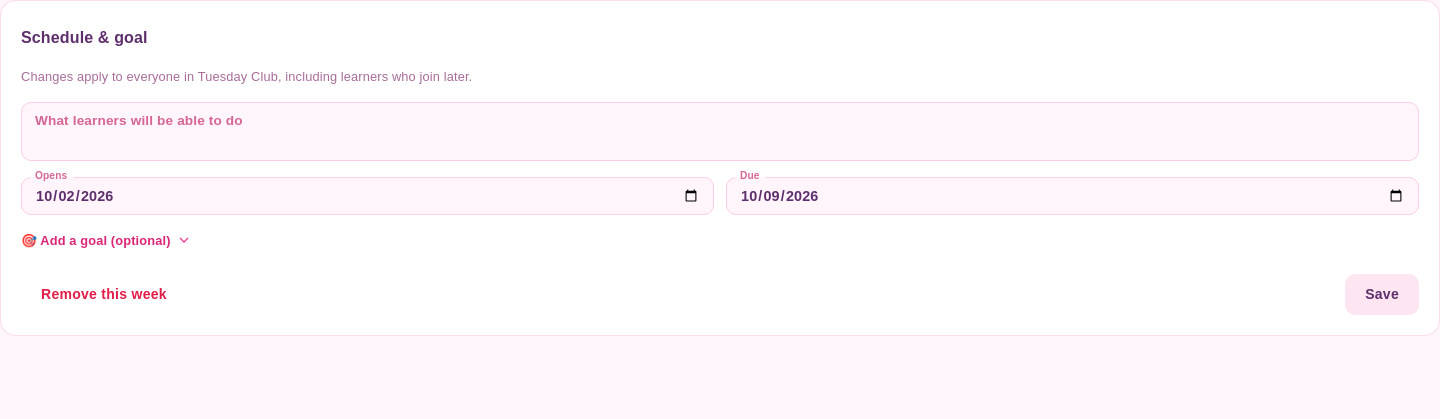
HandoutSettings › shows an error when saving fails
Type "x" into the text box labelled "What learners will be able to do" at {"x": 720, "y": 132}, box [35,111,1405,153]
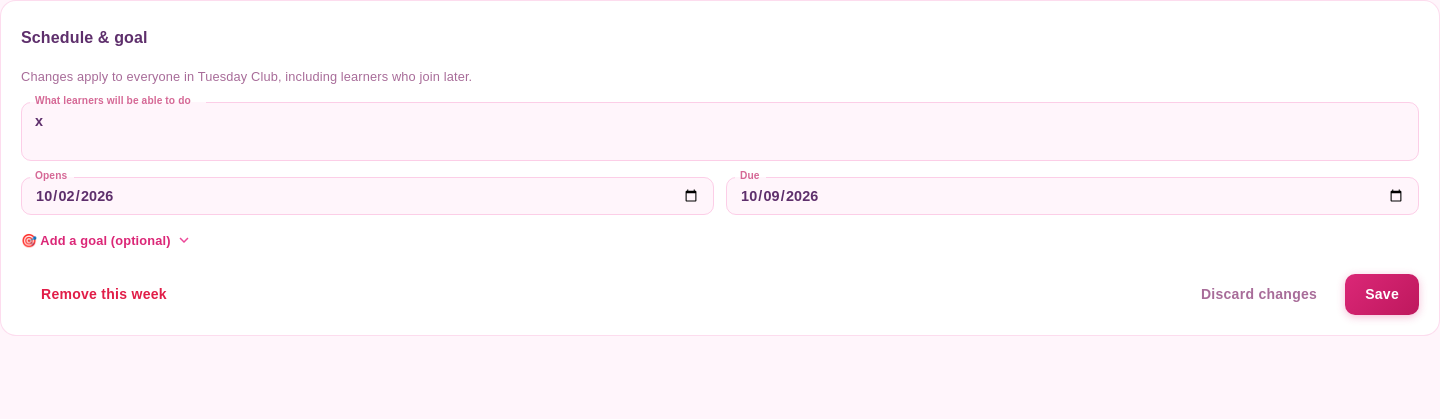
Click the button "Save" at {"x": 1382, "y": 294}, box [1345,274,1419,315]
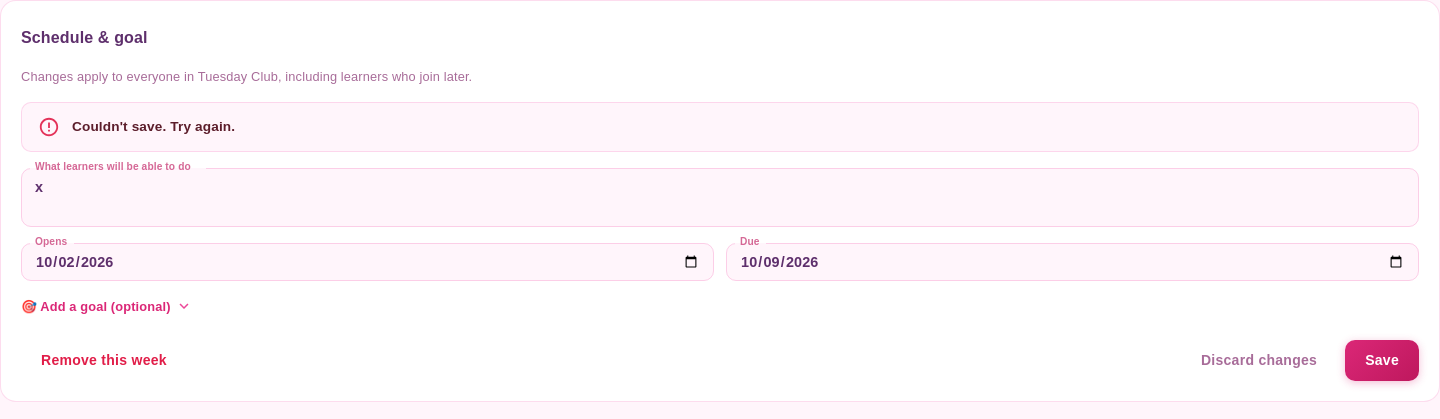
Expected: the text "Couldn't save. Try again." is shown, [72,119,235,134]
